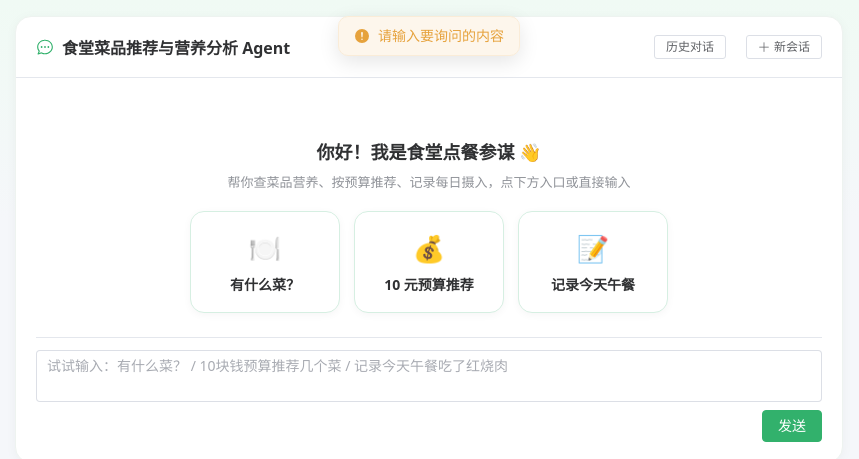
ChatView › 流式与普通均失败时给出友好回复
The width and height of the screenshot is (859, 459).
In the text box with placeholder "试试输入：有什么菜？ / 10块钱预算推荐几个菜 / 记录今天午餐吃了红烧肉": (429, 376) [36,350,822,402], type "hi"
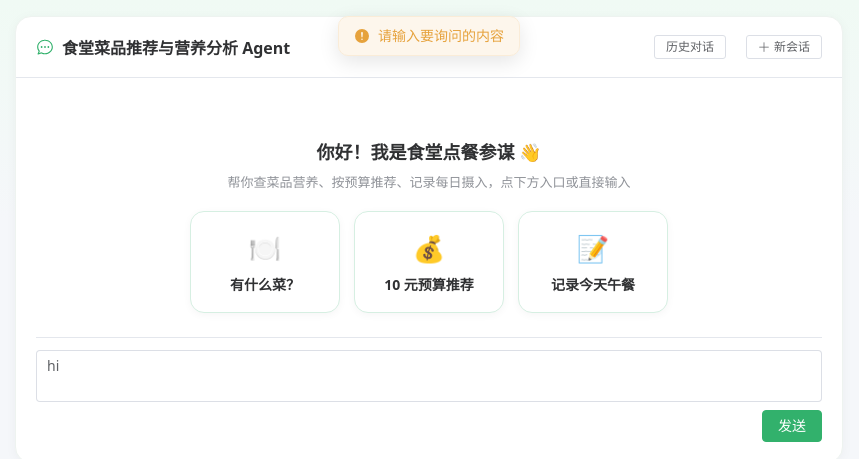
Click the button "发送": (792, 426) [762,410,822,442]
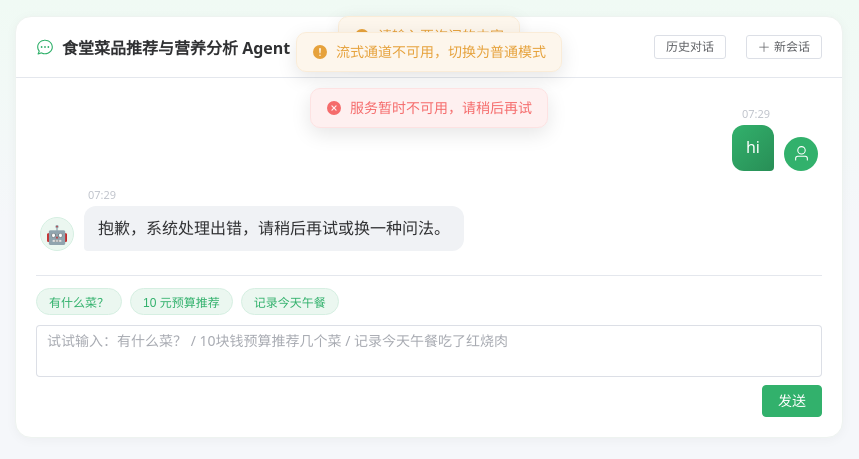
Check: the text with class "chat-bubble" shows "抱歉，系统处理出错", box [98,217,450,239]
